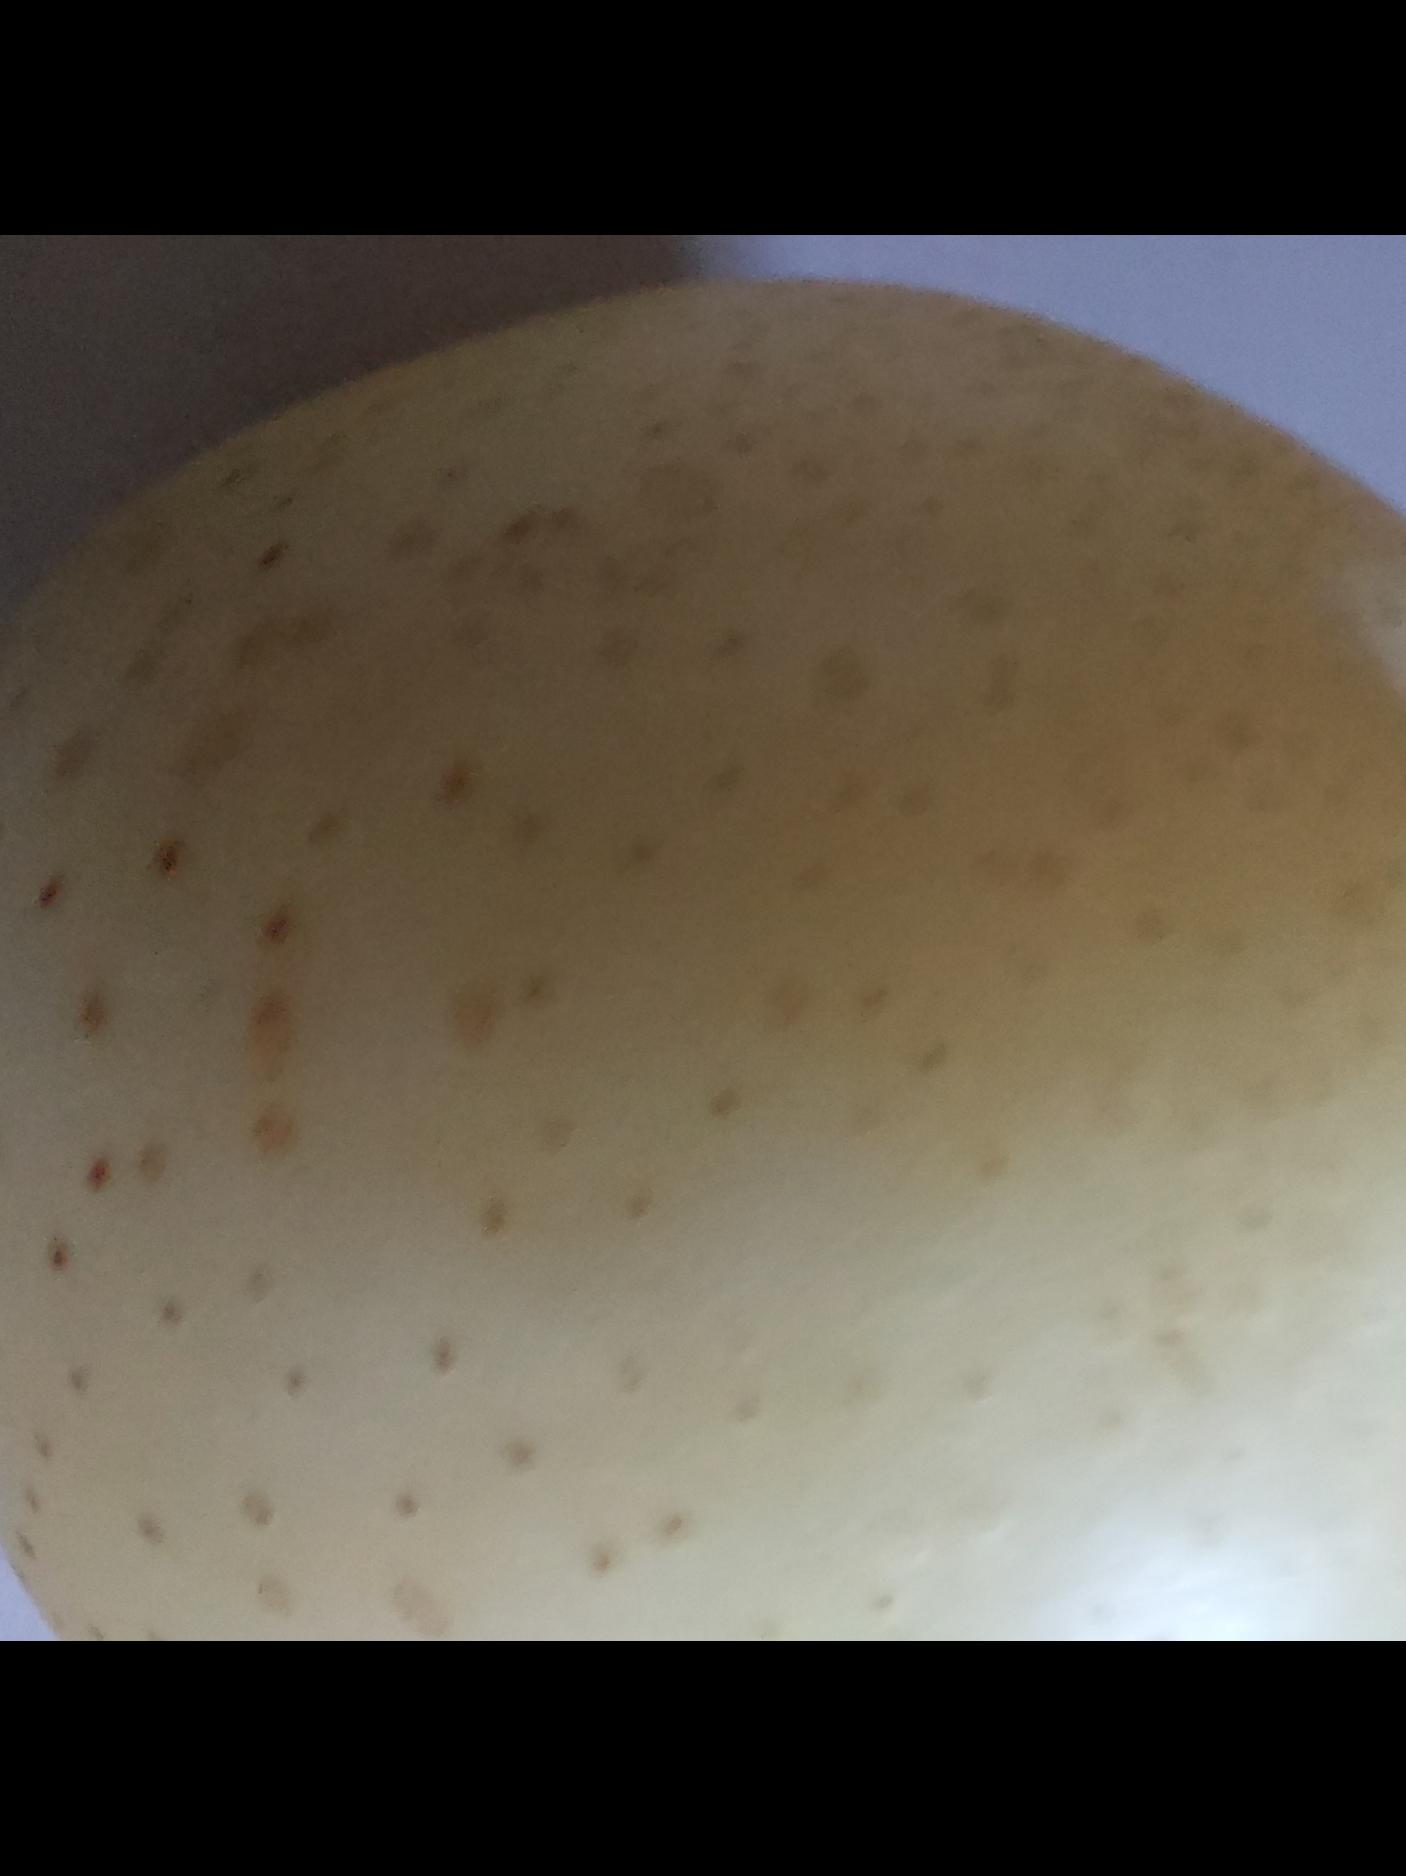Good Pear: (0, 281, 1406, 1641)
